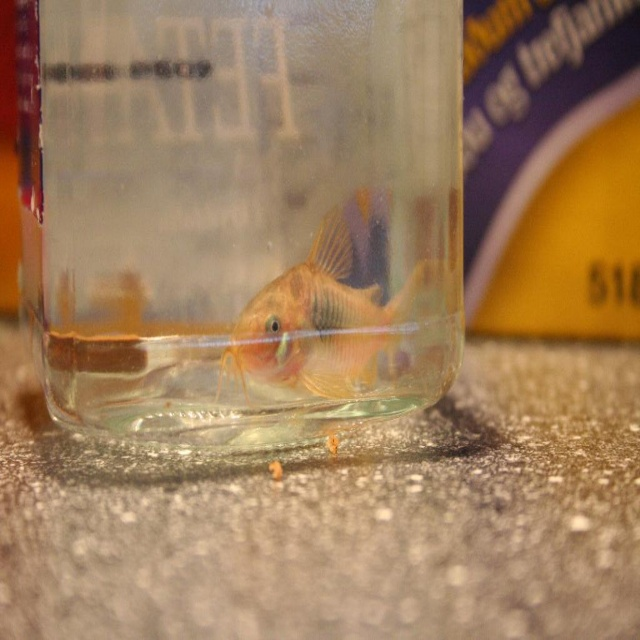Goldfish: (78, 193, 464, 430)
